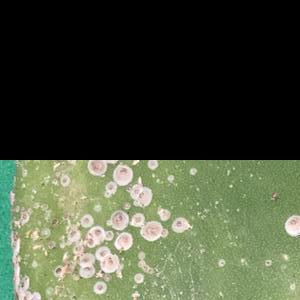Femea: (87, 159, 107, 176), (116, 166, 133, 185), (143, 223, 159, 239), (111, 211, 125, 228), (87, 227, 102, 242), (116, 235, 130, 249), (135, 191, 149, 205), (78, 265, 95, 275), (172, 218, 185, 231), (93, 282, 107, 294), (286, 216, 296, 231), (96, 248, 108, 260), (79, 254, 92, 264), (130, 215, 144, 224), (80, 217, 92, 227), (59, 176, 70, 185), (106, 182, 115, 191), (104, 232, 113, 240), (160, 231, 169, 238)
